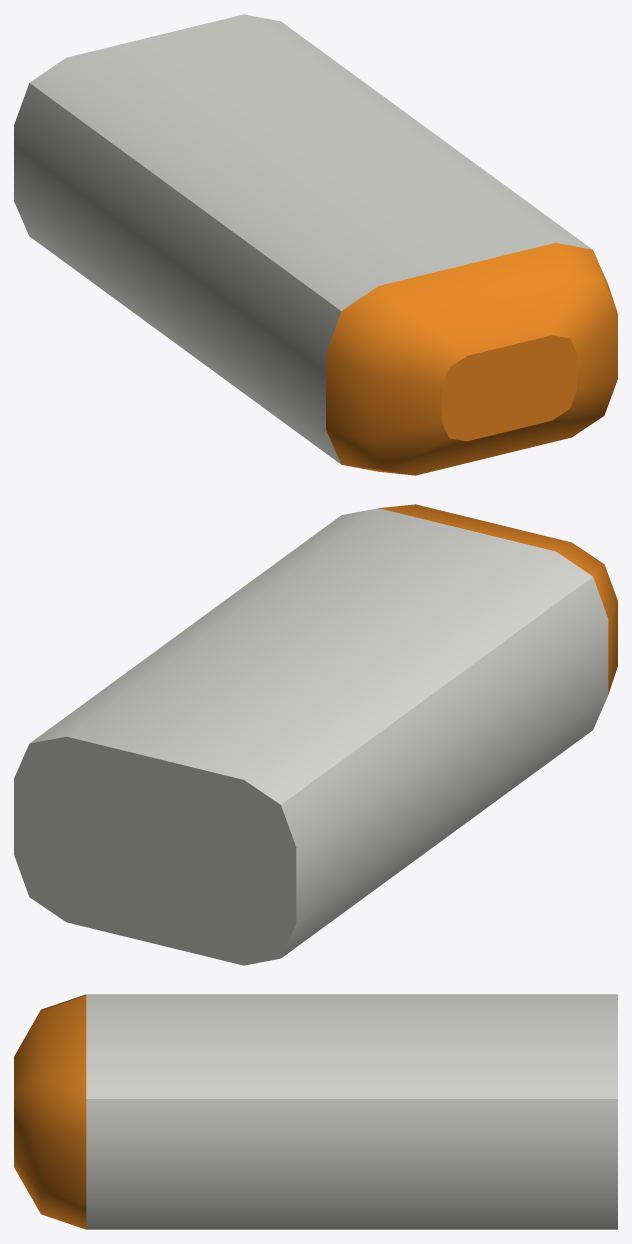
File: refuge100_hull.obj
3 views of the same model, one above another, from view 1: azimuth 30°, elevation 25°; view 2: azimuth 150°, elevation 25°; view 3: azimuth 270°, elevation 25° (orthographic). The views are drawn at different scales.
Parts seen in each view (by area): view 1: refuge100_hull; view 2: refuge100_hull; view 3: refuge100_hull.
Part boxes in pixels (left/top/right/bottom): refuge100_hull: left=14, top=14, right=617, bottom=475; refuge100_hull: left=14, top=504, right=617, bottom=965; refuge100_hull: left=14, top=994, right=617, bottom=1229.
Size of the model in its own units: 3.5 by 2.2 by 7.61.
